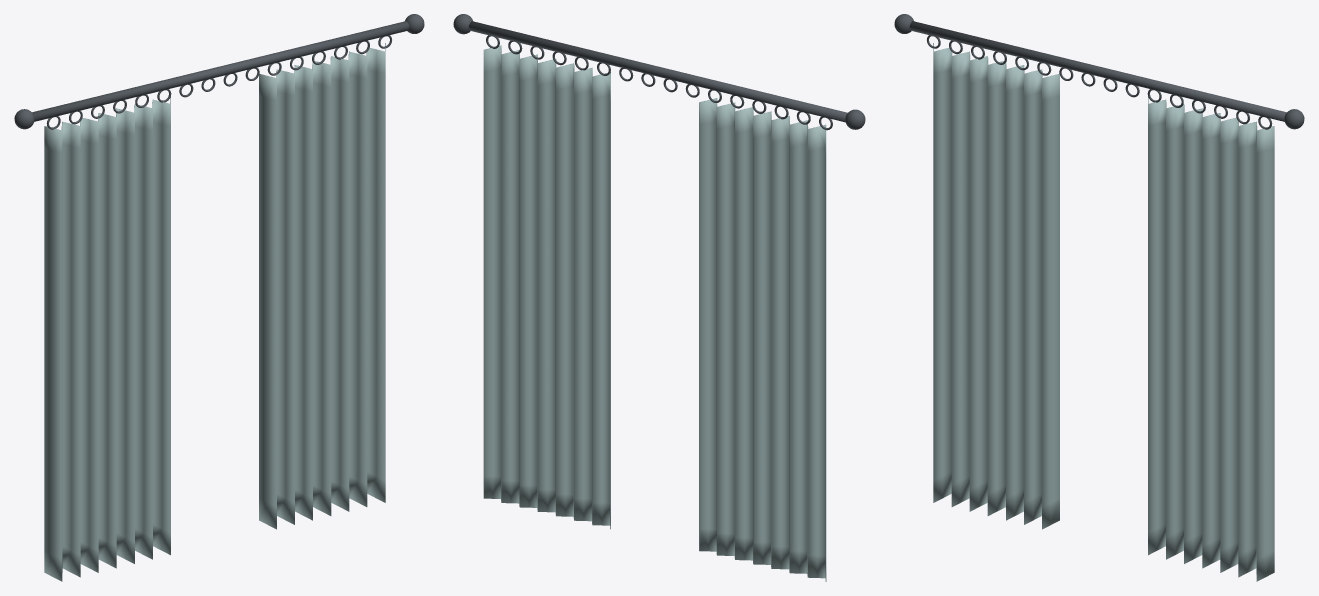
The model's file is atelier-blackout-curtains.glb.
The picture shows the model from 3 angles, left to right: view 1: azimuth 30°, elevation 25°; view 2: azimuth 150°, elevation 25°; view 3: azimuth 330°, elevation 25°; orthographic projection.
Visible parts, largest first — view 1: fabric.048, metal.048; view 2: fabric.048, metal.048; view 3: fabric.048, metal.048.
Part boxes in pixels (bbox=[...]): fabric.048: bbox=[44, 43, 385, 581]; metal.048: bbox=[14, 14, 424, 129]; fabric.048: bbox=[483, 45, 826, 581]; metal.048: bbox=[453, 14, 865, 130]; fabric.048: bbox=[933, 43, 1274, 581]; metal.048: bbox=[894, 14, 1304, 129].
Size of the model in its own units: 2.09 by 2.34 by 0.0899.
